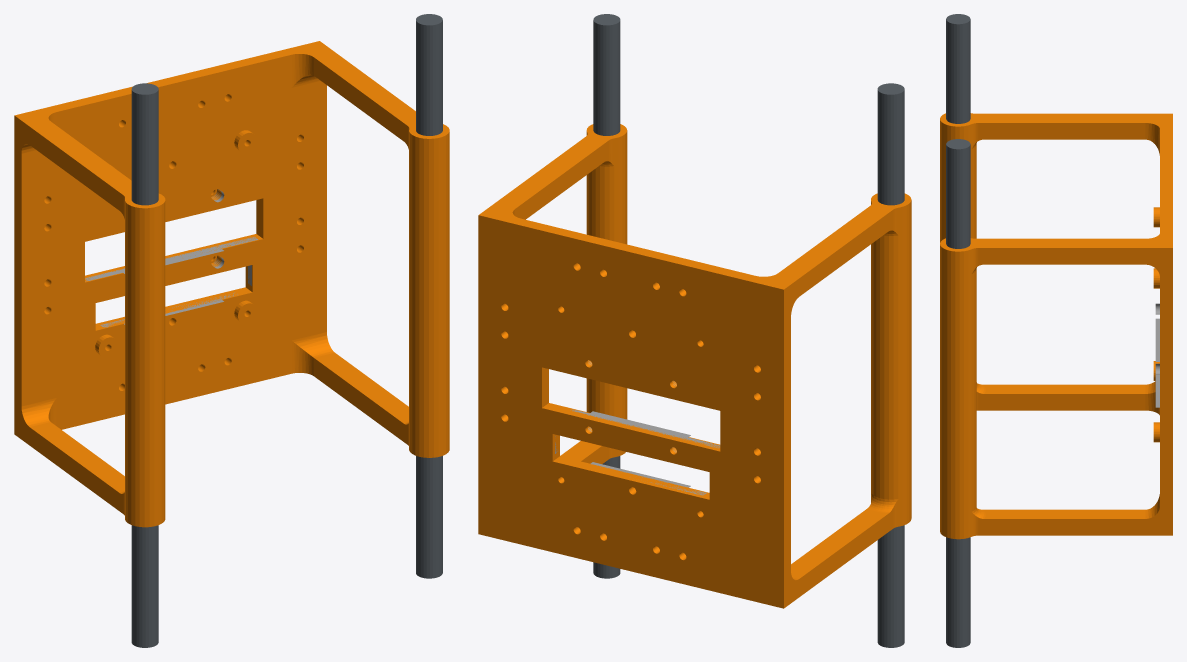
The model's file is cpsl_nvidia_buff_mount.glb.
The picture shows the model from 3 angles, left to right: view 1: azimuth 30°, elevation 25°; view 2: azimuth 150°, elevation 25°; view 3: azimuth 270°, elevation 25°; orthographic projection. The views are drawn at different scales.
Bounding box in the file's own units: 181 × 300 × 127.
